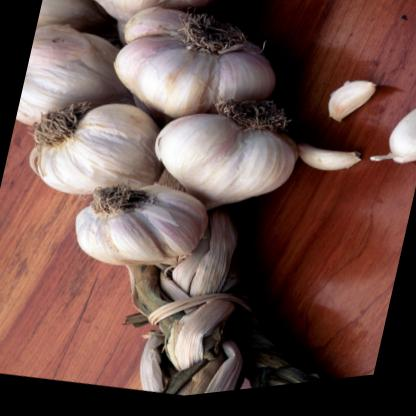garlic: (102, 75, 324, 254), (86, 0, 314, 164), (56, 157, 228, 304), (309, 60, 392, 157), (372, 86, 416, 182)
